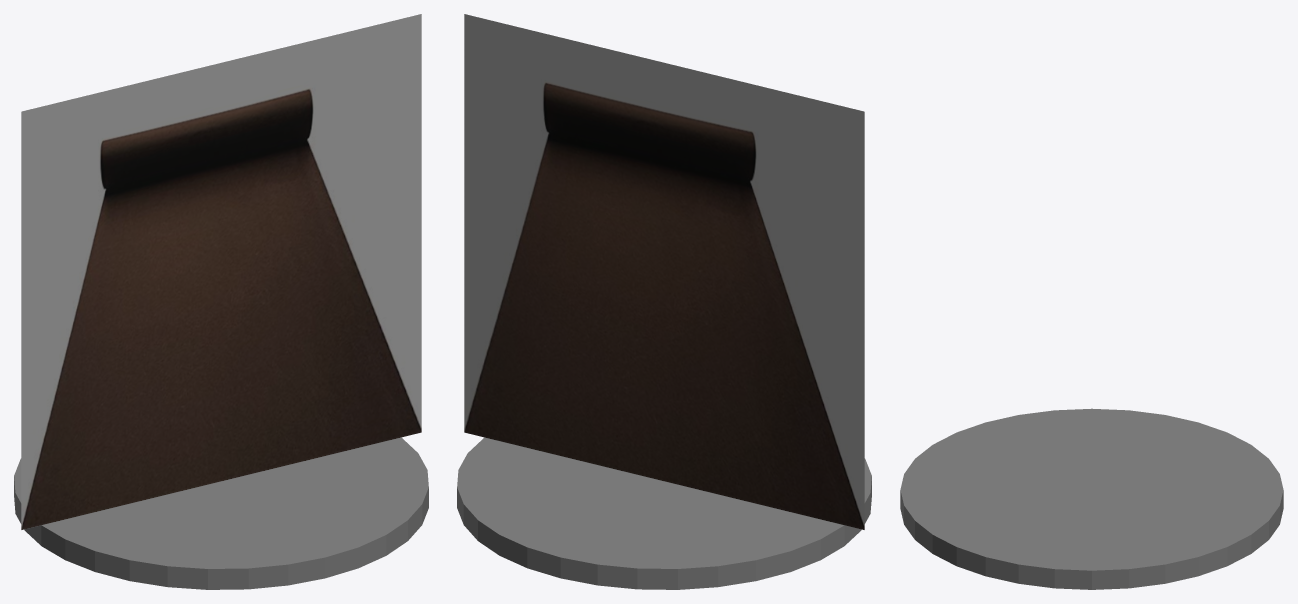
File: B0CDXX3W8J.glb
3 views of the same model, side by side, from view 1: azimuth 30°, elevation 25°; view 2: azimuth 150°, elevation 25°; view 3: azimuth 270°, elevation 25° (orthographic). The views are drawn at different scales.
Parts seen in each view (by area): view 1: photo, base; view 2: photo, base; view 3: base.
Boxes of the visible parts, left/top/right/bottom form: photo: left=21, top=14, right=421, bottom=529; base: left=14, top=437, right=428, bottom=589; photo: left=464, top=14, right=864, bottom=529; base: left=457, top=437, right=871, bottom=589; base: left=900, top=408, right=1283, bottom=589.
Size of the model in its own units: 0.4 by 0.42 by 0.36.
1 material, 1 textured.
